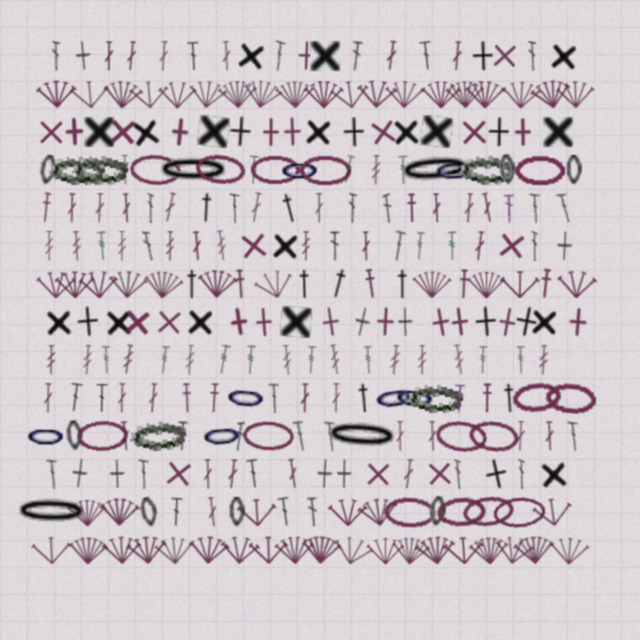chain: (397, 152, 474, 187), (324, 418, 400, 453), (14, 496, 89, 527), (156, 155, 231, 185), (129, 418, 187, 453), (434, 418, 488, 454), (467, 418, 521, 454), (461, 494, 515, 529), (492, 495, 547, 529), (194, 152, 247, 187), (511, 380, 563, 415), (544, 381, 597, 415), (129, 153, 182, 186), (72, 154, 128, 185), (459, 154, 515, 185), (242, 420, 295, 452), (383, 496, 436, 528), (49, 155, 105, 185), (407, 383, 463, 413), (436, 496, 487, 528), (76, 420, 128, 451), (372, 380, 417, 415), (299, 155, 351, 185), (250, 155, 301, 185), (514, 155, 565, 185), (224, 381, 268, 414), (393, 381, 437, 414), (200, 419, 244, 452), (433, 154, 476, 186), (279, 155, 321, 185), (25, 421, 67, 451), (138, 496, 160, 528), (38, 154, 58, 186), (498, 154, 517, 185), (65, 420, 84, 451), (428, 496, 447, 527), (566, 155, 582, 185), (229, 497, 245, 527)
double: (556, 192, 573, 223), (162, 192, 178, 223), (390, 230, 406, 261), (277, 496, 293, 527), (419, 40, 434, 71), (480, 192, 495, 223), (68, 382, 83, 413), (292, 420, 307, 451), (246, 458, 261, 489), (272, 40, 286, 71), (249, 192, 263, 223), (286, 458, 300, 489), (385, 40, 398, 71), (125, 41, 138, 71), (187, 41, 200, 71), (350, 41, 363, 71), (473, 231, 486, 261), (324, 421, 337, 451), (567, 421, 580, 451), (46, 459, 59, 489), (226, 459, 239, 489), (402, 459, 415, 489), (170, 497, 183, 527), (206, 497, 219, 527), (451, 41, 463, 71), (463, 193, 475, 223), (529, 193, 541, 223), (142, 231, 154, 261), (191, 231, 203, 261), (96, 383, 108, 413), (147, 383, 159, 413), (119, 421, 131, 451), (307, 497, 319, 527), (158, 41, 169, 71), (221, 41, 232, 71), (94, 193, 105, 223), (121, 193, 132, 223), (229, 193, 240, 223), (382, 193, 393, 223), (431, 193, 442, 223), (268, 383, 279, 413), (454, 383, 465, 413), (177, 421, 188, 451), (234, 421, 245, 451), (427, 421, 438, 451), (515, 421, 526, 451), (544, 421, 555, 451), (138, 459, 149, 489), (104, 41, 114, 71), (67, 193, 77, 223), (314, 193, 324, 223), (347, 193, 357, 223), (504, 193, 514, 223), (330, 231, 340, 261), (361, 231, 371, 261), (43, 383, 53, 413), (117, 383, 127, 413), (300, 383, 310, 413), (331, 383, 341, 413), (395, 421, 405, 451), (203, 459, 213, 489), (51, 41, 60, 71), (528, 41, 536, 71), (454, 459, 462, 489), (147, 193, 154, 223), (531, 231, 538, 261), (518, 459, 525, 489)
fan: (251, 264, 297, 303), (330, 531, 376, 569), (240, 75, 285, 112), (529, 76, 573, 112), (356, 494, 400, 529), (492, 532, 536, 567), (531, 494, 574, 529), (187, 76, 229, 111), (329, 76, 371, 111), (142, 267, 185, 301), (414, 533, 457, 567), (102, 77, 144, 111), (390, 533, 432, 567), (69, 77, 111, 110), (128, 77, 170, 110), (356, 77, 398, 110), (107, 267, 149, 300), (126, 533, 168, 566), (153, 533, 195, 566), (188, 533, 230, 566), (219, 533, 261, 566), (513, 533, 555, 566), (197, 267, 238, 300), (301, 533, 342, 566), (468, 534, 510, 566), (501, 78, 542, 110), (78, 268, 119, 300), (68, 534, 109, 566), (443, 534, 484, 566), (549, 534, 590, 566), (557, 268, 597, 300), (237, 496, 277, 528), (36, 78, 77, 109), (217, 78, 258, 109), (384, 78, 425, 109), (99, 496, 140, 527), (31, 534, 72, 565), (101, 534, 142, 565), (274, 534, 315, 565), (275, 78, 315, 109), (445, 78, 485, 109), (412, 268, 452, 299), (556, 78, 595, 109), (249, 534, 288, 565), (304, 79, 344, 109), (421, 79, 461, 109), (465, 79, 505, 109), (36, 269, 76, 299), (55, 269, 95, 299), (500, 269, 540, 299), (67, 497, 107, 527), (328, 497, 368, 527), (158, 79, 197, 109), (467, 269, 506, 299), (366, 535, 405, 565)
half_double: (327, 267, 351, 300), (278, 192, 301, 224), (197, 192, 216, 223), (183, 269, 201, 299), (355, 383, 373, 413), (296, 269, 313, 299), (394, 269, 411, 299), (501, 383, 518, 413), (363, 268, 378, 299), (538, 268, 553, 299), (39, 192, 53, 223), (234, 269, 247, 299), (458, 269, 470, 299), (181, 383, 193, 413), (208, 383, 220, 413), (481, 383, 493, 413), (406, 193, 417, 223)
single: (366, 115, 400, 149), (424, 305, 458, 339), (490, 305, 524, 339), (197, 115, 230, 148), (420, 115, 453, 148), (237, 229, 270, 262), (495, 229, 528, 262), (222, 305, 255, 338), (314, 305, 347, 338), (443, 305, 476, 338), (162, 457, 195, 490), (130, 115, 162, 149), (164, 116, 196, 148), (121, 306, 153, 338), (153, 306, 185, 338), (248, 306, 280, 338), (280, 306, 312, 338), (562, 306, 594, 338), (236, 39, 267, 72), (291, 40, 322, 71), (489, 40, 520, 71), (59, 116, 90, 147), (107, 116, 138, 147), (277, 116, 308, 147), (370, 306, 401, 337), (424, 458, 455, 489), (549, 40, 579, 72), (539, 458, 569, 490), (482, 457, 510, 491), (512, 305, 540, 338), (310, 41, 340, 71), (36, 117, 66, 147), (84, 117, 114, 147), (256, 117, 286, 147), (459, 117, 489, 147), (508, 117, 538, 147), (543, 117, 573, 147), (363, 459, 393, 489), (304, 116, 333, 147), (392, 116, 421, 147), (271, 230, 300, 261), (186, 306, 215, 337), (530, 306, 559, 337), (45, 307, 73, 337), (105, 307, 133, 337), (75, 306, 100, 337), (473, 306, 498, 337), (228, 116, 252, 147), (471, 41, 494, 71), (342, 117, 365, 147), (487, 117, 510, 147), (352, 306, 373, 338), (71, 458, 89, 489), (75, 40, 92, 71), (557, 231, 573, 261), (317, 459, 333, 489), (398, 307, 413, 337), (110, 459, 125, 489), (337, 459, 352, 489)
treble: (341, 154, 356, 185), (216, 344, 231, 375), (121, 344, 135, 375), (328, 344, 342, 375), (452, 344, 466, 375), (215, 230, 228, 261), (158, 345, 171, 375), (248, 155, 260, 185), (96, 231, 108, 261), (414, 231, 426, 261), (184, 345, 196, 375), (281, 345, 293, 375), (389, 345, 401, 375), (398, 155, 409, 185), (71, 231, 82, 261), (82, 345, 93, 375), (101, 345, 112, 375), (245, 345, 256, 375), (306, 345, 317, 375), (363, 345, 374, 375), (538, 345, 549, 375), (120, 155, 130, 185), (371, 155, 381, 185), (44, 231, 54, 261), (117, 231, 127, 261), (165, 231, 175, 261), (301, 231, 311, 261), (447, 231, 457, 261), (46, 345, 56, 375), (417, 345, 427, 375), (478, 345, 488, 375), (516, 345, 526, 375)
